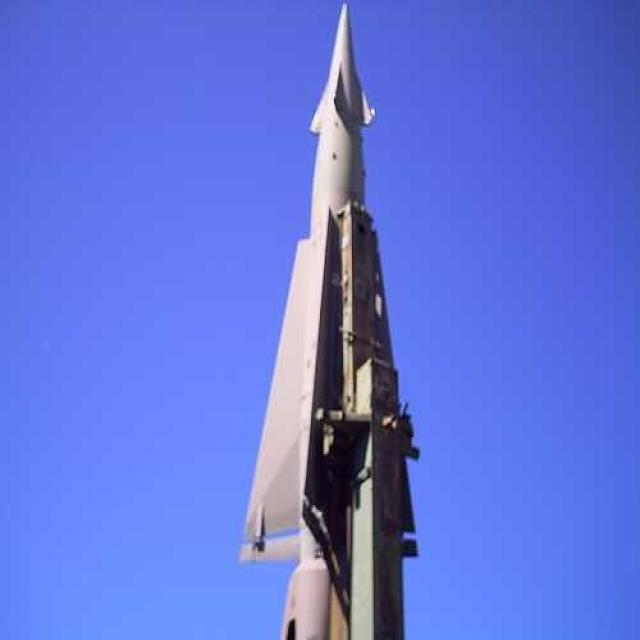missile: (250, 0, 413, 577)
